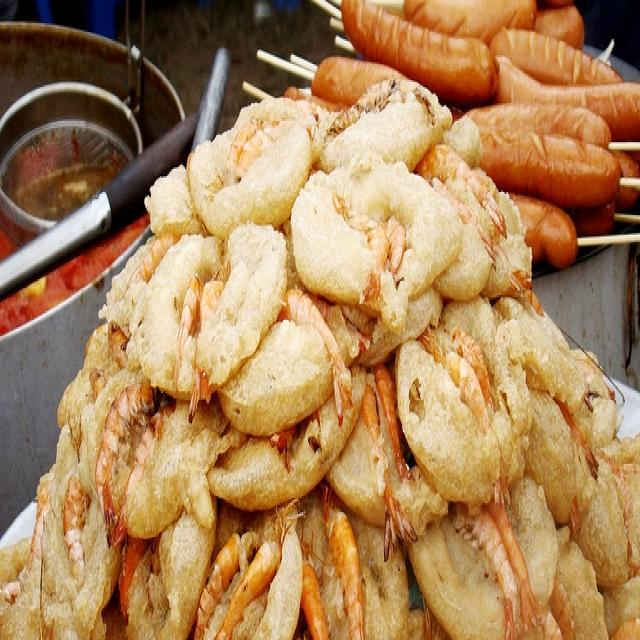炸货点心: (22, 16, 618, 631)
熟制海鲜: (22, 16, 618, 631)
